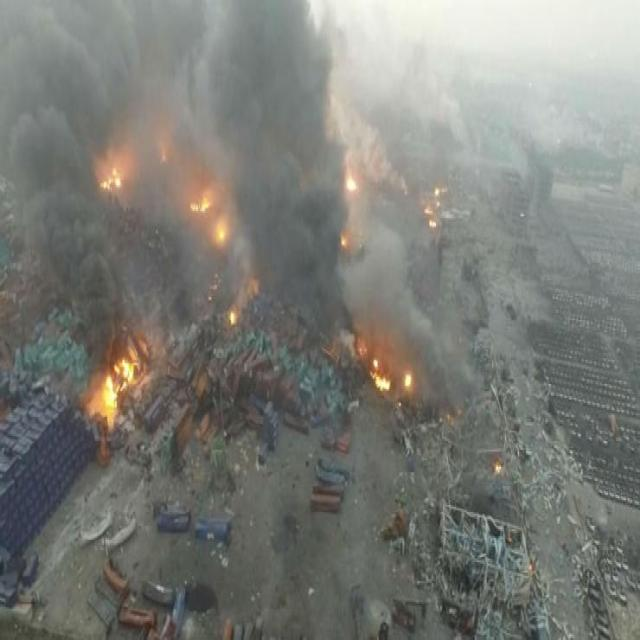fire: (95, 346, 144, 420), (91, 150, 128, 198), (364, 341, 390, 401), (180, 177, 214, 215), (205, 207, 235, 250), (421, 180, 445, 233), (399, 354, 417, 391), (332, 215, 350, 247), (220, 292, 237, 323), (338, 170, 358, 196), (492, 456, 506, 474)
smoke: (200, 1, 338, 318), (0, 1, 123, 322), (349, 11, 459, 120), (125, 8, 192, 164), (346, 100, 398, 200), (362, 230, 410, 331)
